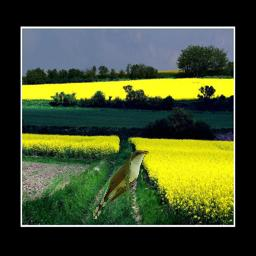Cuckoo: (93, 150, 149, 219)
